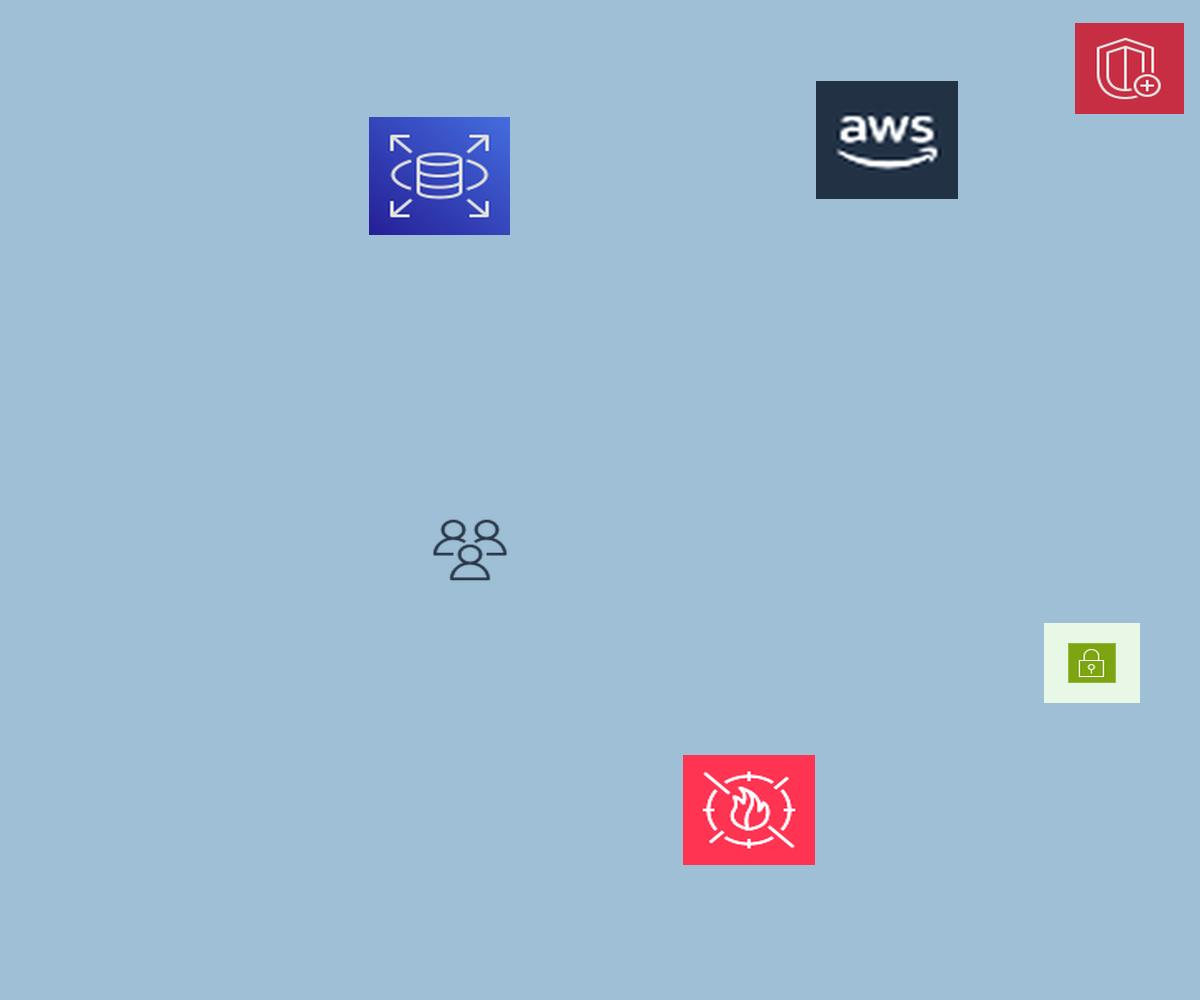AWS-Cloud-logo: (816, 81, 958, 199)
AWS-Public-subnet: (1044, 623, 1140, 703)
AWS-RDS: (369, 117, 510, 235)
AWS-Res_Users: (430, 517, 510, 583)
AWS-Shield: (1075, 23, 1184, 114)
AWS-WAF: (683, 755, 815, 865)
